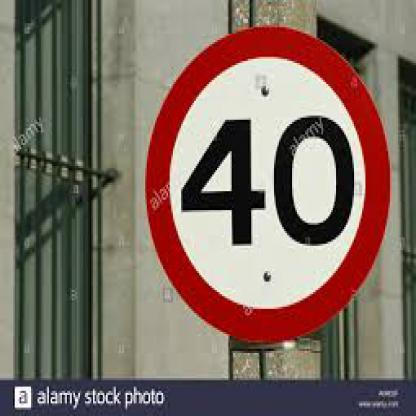Speed Limit 40: (150, 27, 390, 339)
